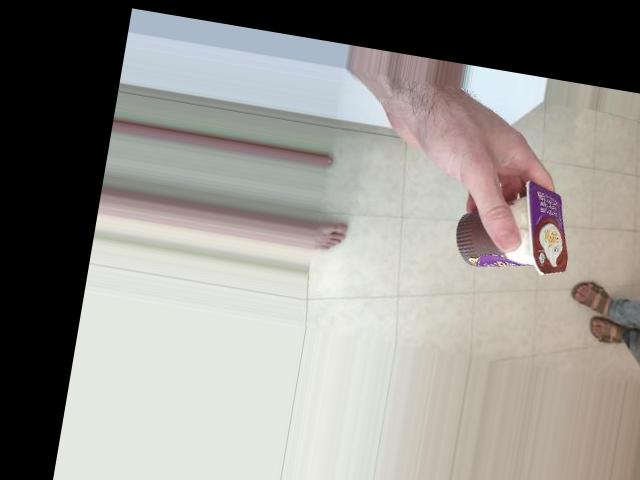milky: (448, 171, 563, 283)
